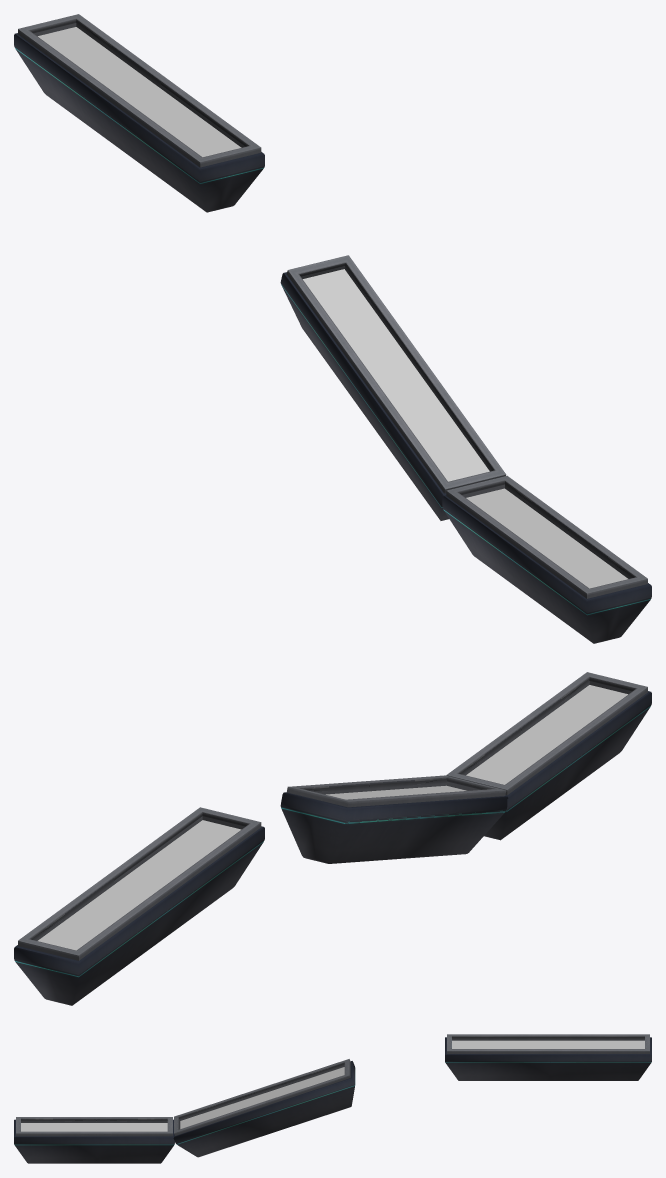
File: mesh_1002_hualan01a003a.FBX
3 views of the same model, one above another, from view 1: azimuth 30°, elevation 25°; view 2: azimuth 150°, elevation 25°; view 3: azimuth 270°, elevation 25° (orthographic). The views are drawn at different scales.
Visible parts, largest first — view 1: mesh_1002_hualan02a, mesh_1002_hualan01b; view 2: mesh_1002_hualan02a, mesh_1002_hualan01b; view 3: mesh_1002_hualan02a, mesh_1002_hualan01b.
Part boxes in pixels (<box>): mesh_1002_hualan02a: <box>14,14,651,643</box>; mesh_1002_hualan01b: <box>38,27,627,588</box>; mesh_1002_hualan02a: <box>14,672,651,1005</box>; mesh_1002_hualan01b: <box>38,685,627,950</box>; mesh_1002_hualan02a: <box>14,1034,651,1163</box>; mesh_1002_hualan01b: <box>21,1040,644,1131</box>.
Bounding box in the file's own units: 169 × 525 × 2585.
